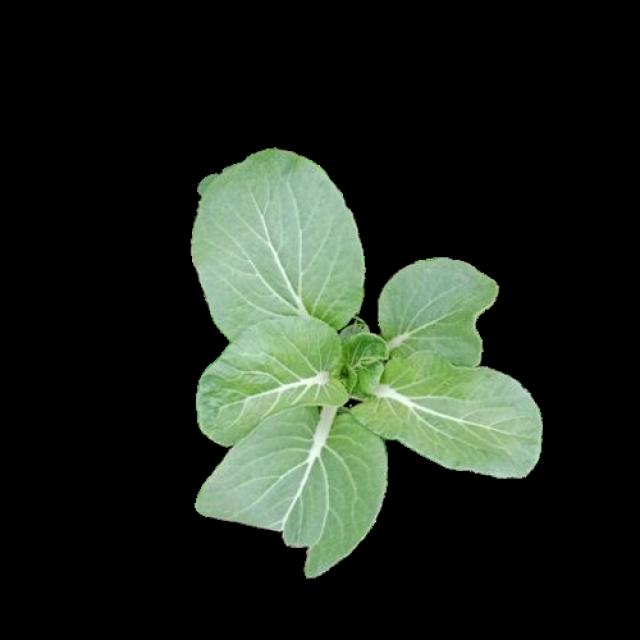not-mature: (188, 147, 547, 576)
unhealthy: (186, 395, 385, 585)
